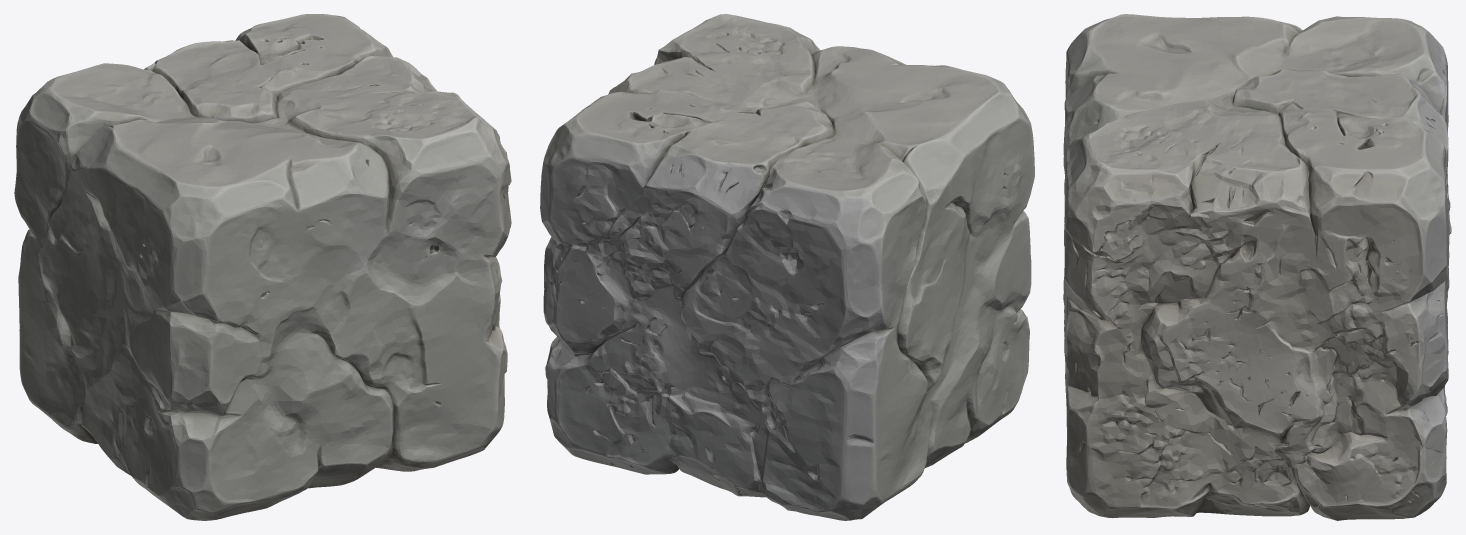
The model's file is ground_blocks_bottom2layers.glb.
3 renders of one model, left to right at view 1: azimuth 30°, elevation 25°; view 2: azimuth 150°, elevation 25°; view 3: azimuth 270°, elevation 25°, orthographic. The views are drawn at different scales.
Visible parts, largest first — view 1: tripo_node_638327d5-488a-4c1f-bf3f-64282c52dfd1; view 2: tripo_node_638327d5-488a-4c1f-bf3f-64282c52dfd1; view 3: tripo_node_638327d5-488a-4c1f-bf3f-64282c52dfd1.
Boxes of the visible parts, x1,y1,x2,y2 form: tripo_node_638327d5-488a-4c1f-bf3f-64282c52dfd1: (14, 14, 511, 520); tripo_node_638327d5-488a-4c1f-bf3f-64282c52dfd1: (540, 14, 1034, 520); tripo_node_638327d5-488a-4c1f-bf3f-64282c52dfd1: (1063, 14, 1451, 520).
Size of the model in its own units: 1 by 0.9322 by 0.9181.
Materials: 1 (1 with a texture image).
